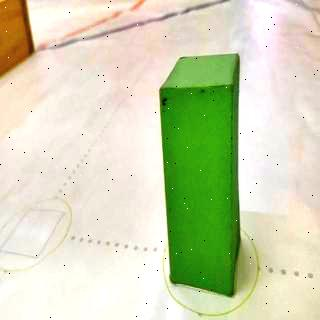greenbox: (159, 51, 240, 296)
